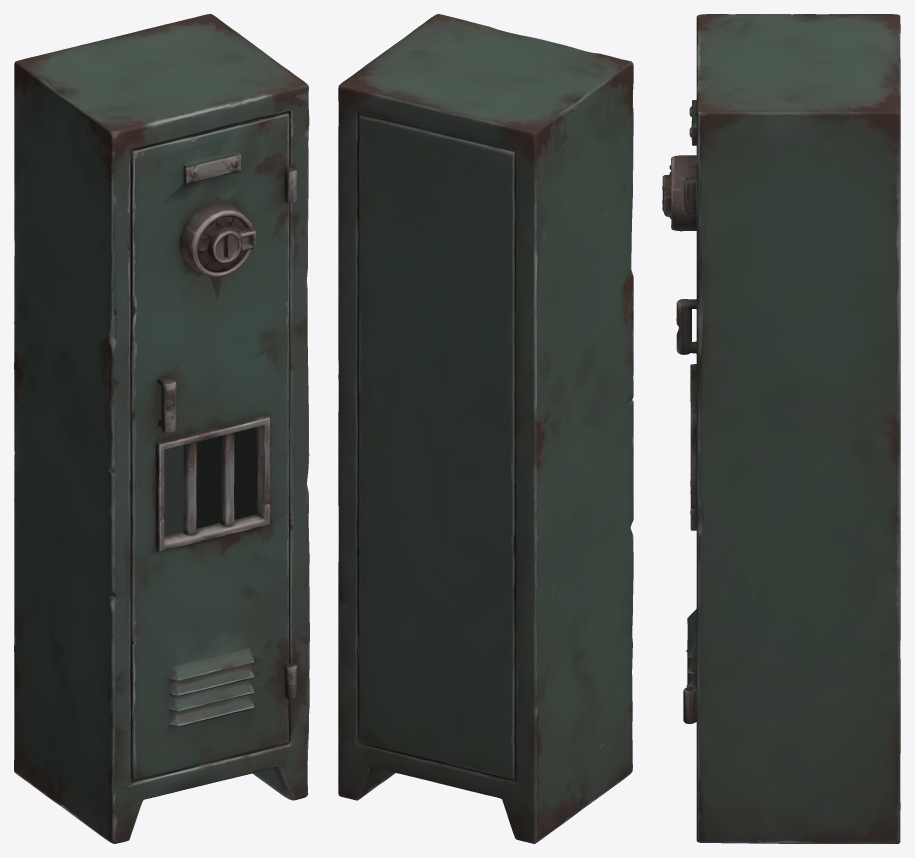
Rendered from prison_locker_row.glb.
3 views of the same model, side by side, from view 1: azimuth 30°, elevation 25°; view 2: azimuth 150°, elevation 25°; view 3: azimuth 270°, elevation 25° (orthographic). The views are drawn at different scales.
Parts seen in each view (by area): view 1: body, door; view 2: body; view 3: body, door.
Boxes of the visible parts, x1,y1,x2,y2 form: body: (14, 14, 309, 843); door: (135, 109, 296, 779); body: (338, 14, 633, 843); body: (684, 14, 900, 843); door: (662, 100, 696, 722).
Bounding box in the file's own units: 0.5535 × 1.9 × 0.5605.
3 materials, 3 textured.
